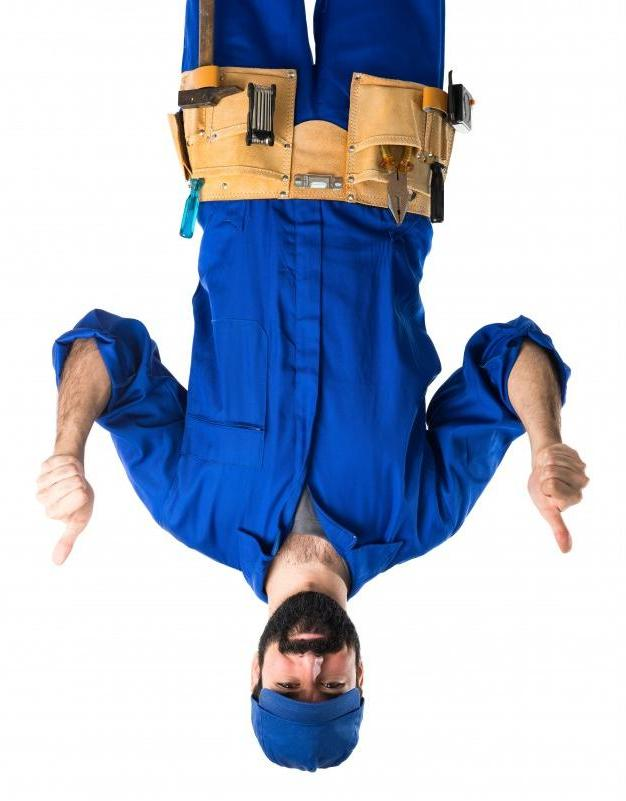thumbsdown: (37, 455, 92, 566), (537, 444, 590, 554)
